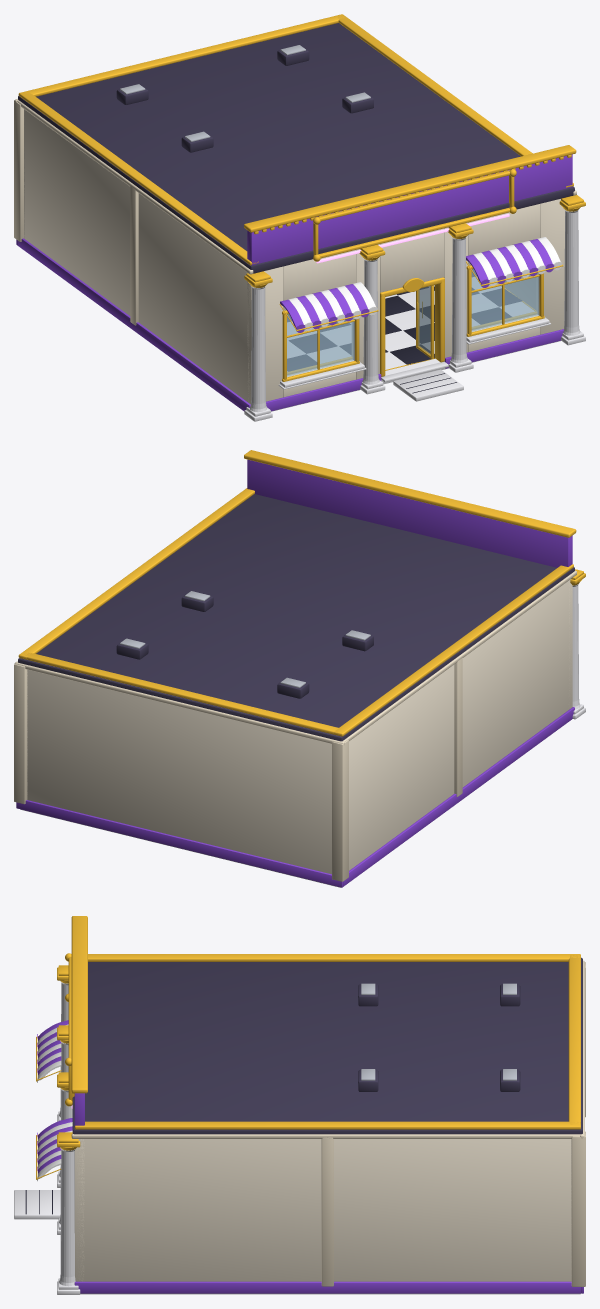
File: PropShopExterior.fbx
The picture shows the model from 3 angles, top to bottom: view 1: azimuth 30°, elevation 25°; view 2: azimuth 150°, elevation 25°; view 3: azimuth 270°, elevation 25°; orthographic projection. The views are drawn at different scales.
Visible parts, largest first — view 1: Roof, Wall, Gold, Marble, Accent, Glass, Trim, DarkMarble, AccentFabric, Stripe, Steel, AccentNeon; view 2: Wall, Roof, Accent, Gold, Trim, Marble, Steel; view 3: Roof, Wall, Gold, Trim, Accent, Marble, Stripe, AccentFabric, Steel.
Boxes of the visible parts, bbox=[...] form: Roof: bbox=[18, 23, 574, 273]; Wall: bbox=[24, 109, 564, 404]; Gold: bbox=[18, 14, 585, 381]; Marble: bbox=[244, 209, 585, 421]; Accent: bbox=[16, 154, 572, 411]; Glass: bbox=[287, 269, 538, 376]; Trim: bbox=[14, 99, 576, 325]; DarkMarble: bbox=[287, 269, 521, 393]; AccentFabric: bbox=[280, 239, 554, 332]; Stripe: bbox=[288, 237, 562, 330]; Steel: bbox=[120, 45, 370, 141]; AccentNeon: bbox=[316, 213, 509, 263]; Wall: bbox=[27, 579, 572, 874]; Roof: bbox=[18, 494, 574, 741]; Accent: bbox=[16, 459, 574, 887]; Gold: bbox=[18, 450, 585, 736]; Trim: bbox=[14, 570, 576, 881]; Marble: bbox=[20, 584, 585, 887]; Steel: bbox=[120, 591, 370, 687]; Roof: bbox=[72, 957, 582, 1134]; Wall: bbox=[74, 1139, 571, 1281]; Gold: bbox=[36, 916, 580, 1179]; Trim: bbox=[71, 960, 585, 1286]; Accent: bbox=[74, 1093, 583, 1293]; Marble: bbox=[14, 981, 580, 1294]; Stripe: bbox=[37, 1024, 72, 1181]; AccentFabric: bbox=[37, 1020, 72, 1173]; Steel: bbox=[361, 983, 516, 1080].
Size of the model in its own units: 4130 by 2250 by 5650.
